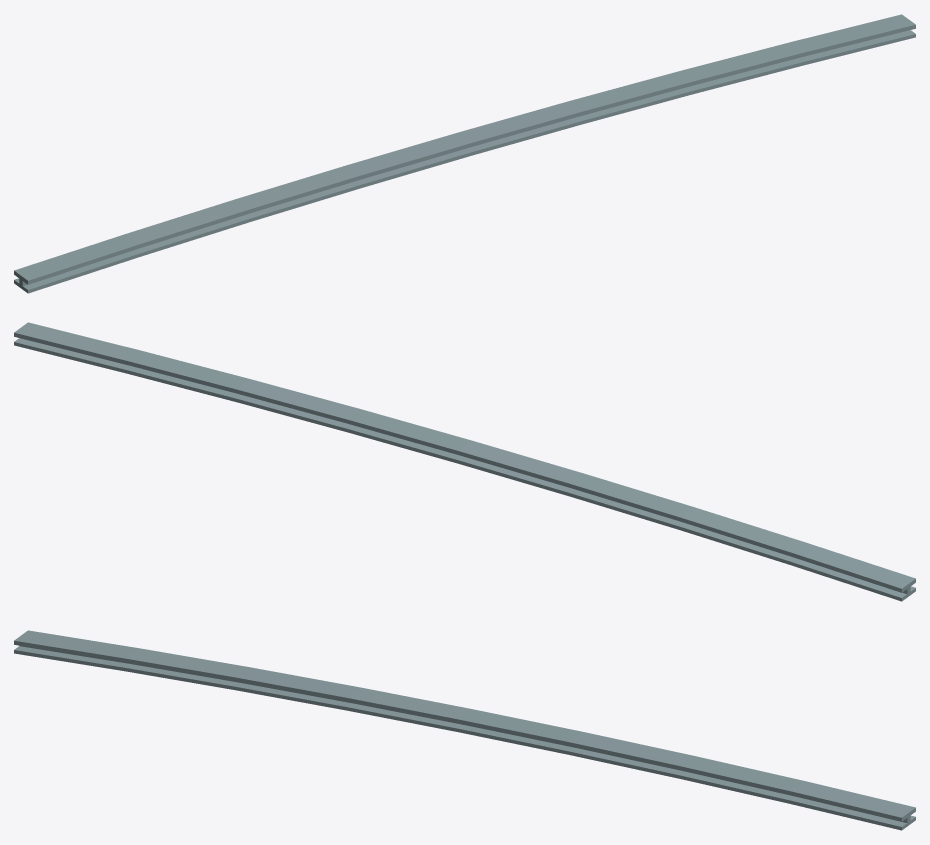
The model's file is RoadPlan_RampStructure_2L_Rise8_L110_UpperVerticalCurve_Girder_1.glb.
3 views of the same model, one above another, from view 1: azimuth 30°, elevation 25°; view 2: azimuth 150°, elevation 25°; view 3: azimuth 330°, elevation 25° (orthographic).
Visible parts, largest first — view 1: RoadPlan_RampStructure_2L_Rise8_L110_UpperVerticalCurve_Gird; view 2: RoadPlan_RampStructure_2L_Rise8_L110_UpperVerticalCurve_Gird; view 3: RoadPlan_RampStructure_2L_Rise8_L110_UpperVerticalCurve_Gird.
Boxes of the visible parts, x1=… form: RoadPlan_RampStructure_2L_Rise8_L110_UpperVerticalCurve_Gird: x1=14, y1=14, x2=915, y2=293; RoadPlan_RampStructure_2L_Rise8_L110_UpperVerticalCurve_Gird: x1=14, y1=322, x2=915, y2=601; RoadPlan_RampStructure_2L_Rise8_L110_UpperVerticalCurve_Gird: x1=14, y1=630, x2=915, y2=830.
Bounding box in the file's own units: 16 × 0.9009 × 0.44.
